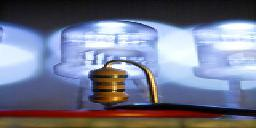LED: (55, 21, 163, 62), (190, 21, 256, 83)
